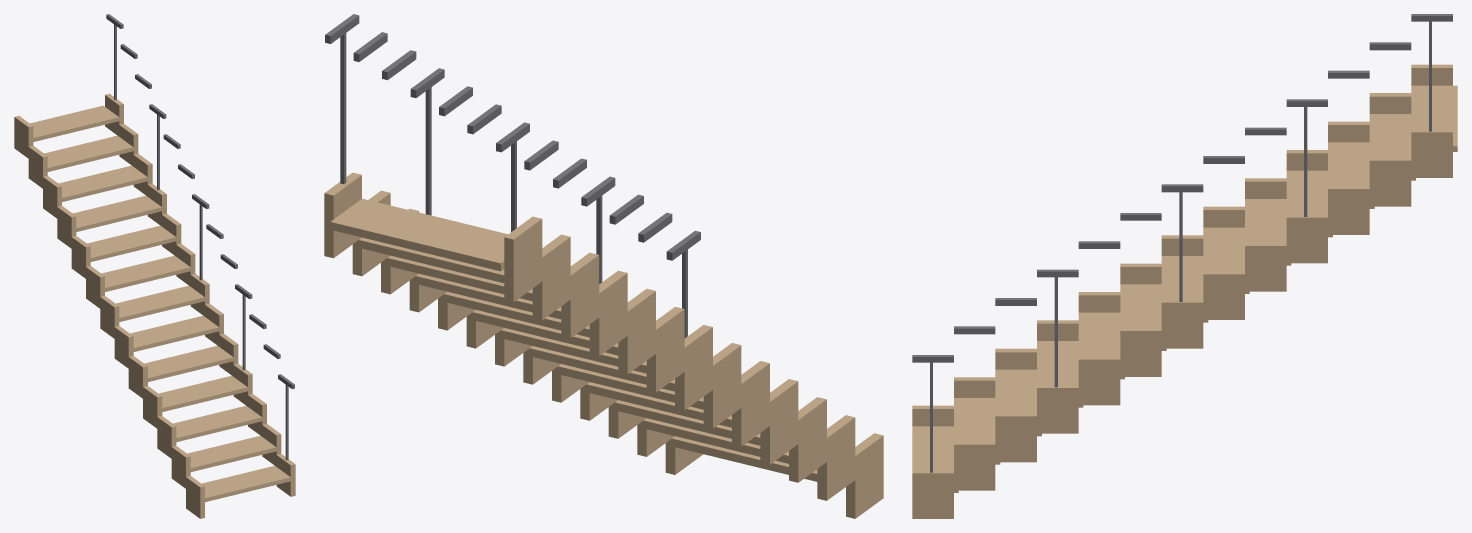
File: treppe.glb
3 renders of one model, left to right at view 1: azimuth 30°, elevation 25°; view 2: azimuth 150°, elevation 25°; view 3: azimuth 270°, elevation 25°, orthographic. The views are drawn at different scales.
Size of the model in its own units: 1 by 3.47 by 3.41.
